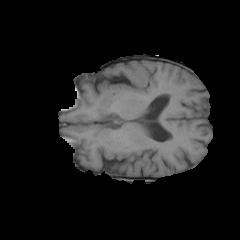glioma: (104, 70, 156, 98)
